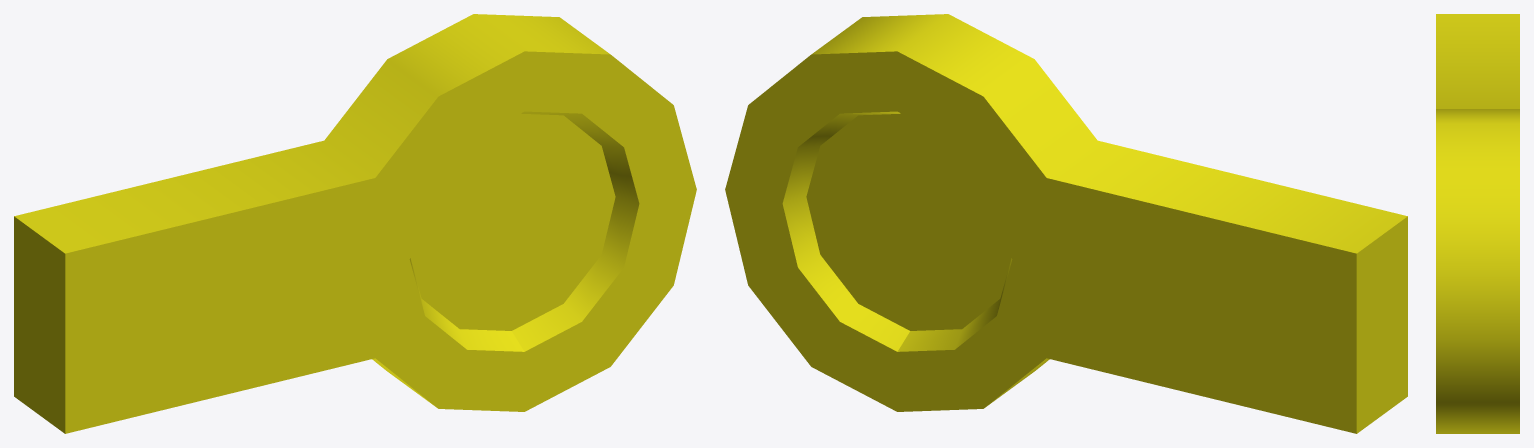
Rendered from PipeCon.fbx.
The picture shows the model from 3 angles, left to right: view 1: azimuth 30°, elevation 25°; view 2: azimuth 150°, elevation 25°; view 3: azimuth 270°, elevation 25°; orthographic projection. The views are drawn at different scales.
Parts seen in each view (by area): view 1: PipeCon; view 2: PipeCon; view 3: PipeCon.
Boxes of the visible parts, box(x1,y1,x2,y2) form: PipeCon: box(14, 14, 696, 433); PipeCon: box(725, 14, 1407, 433); PipeCon: box(1436, 14, 1519, 433).
Bounding box in the file's own units: 110 × 60.02 × 15.41.
